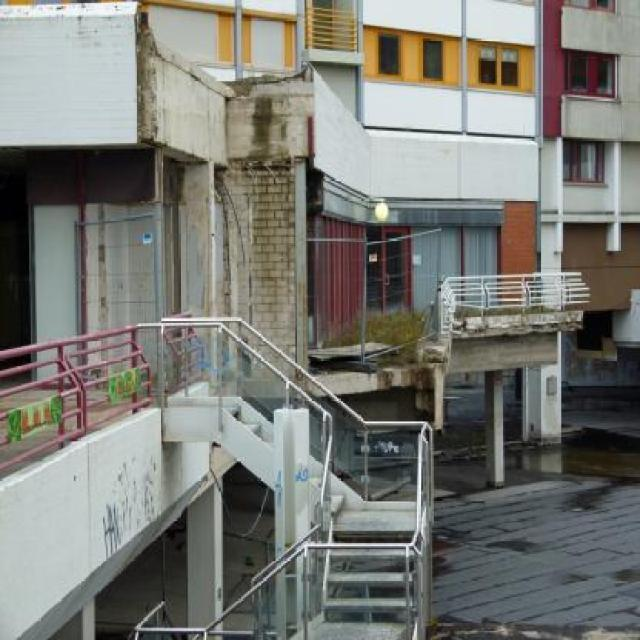stair: (160, 397, 434, 640)
